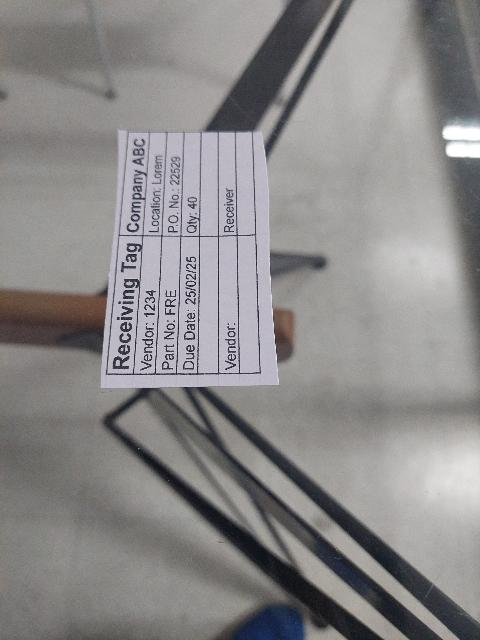PO no: (161, 133, 183, 236)
part no: (156, 235, 181, 375)
qty: (180, 133, 201, 237)
tags: (99, 130, 280, 394)
